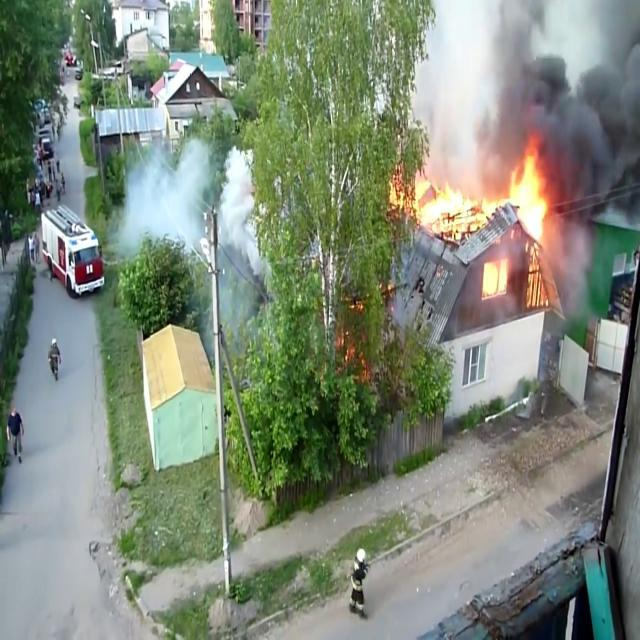Fire: (404, 146, 558, 304), (480, 249, 510, 301)
Smoke: (410, 0, 640, 190), (113, 120, 261, 284)
